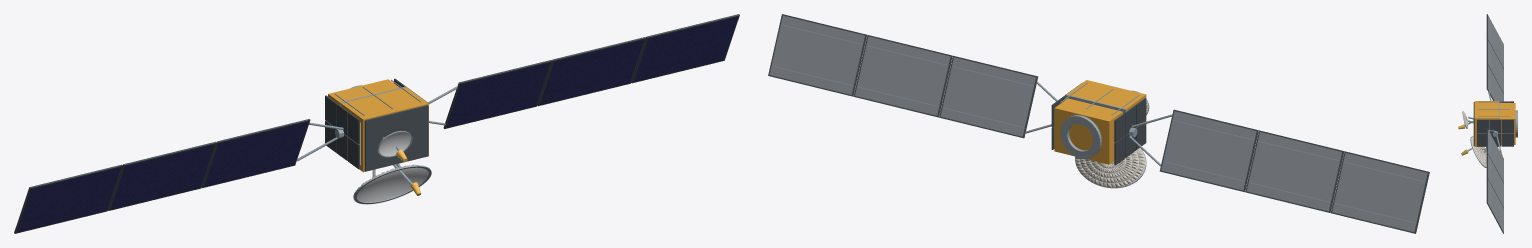
Rendered from spacenet-4.glb.
3 renders of one model, left to right at view 1: azimuth 30°, elevation 25°; view 2: azimuth 150°, elevation 25°; view 3: azimuth 270°, elevation 25°, orthographic. The views are drawn at different scales.
Parts seen in each view (by area): view 1: Solar cell panel (×6), Solar panel frame (×6), Earth-facing deck, Payload module, Reflector 1 face, Service module, Reflector 2 face, Reflector 1 edge; view 2: Rear array substrate (×6), Solar panel frame (×6), Service module, Reflector 1 insulated back, Payload module, Launch adapter ring; view 3: Rear array substrate (×6), Radiator bay (×6), Payload module, Solar panel frame (×6), Service module, Reflector 1 insulated back, Earth-facing deck, Launch adapter ring, Blanket closeout seam, Reflector 2 insulated back, Reflector 1 edge.
Part boxes in pixels (<box>): Solar cell panel (×6): <box>16,17,737,232</box>; Solar panel frame (×6): <box>14,14,739,233</box>; Earth-facing deck: <box>364,105,428,171</box>; Payload module: <box>341,87,428,172</box>; Reflector 1 face: <box>354,166,431,204</box>; Service module: <box>328,79,399,104</box>; Reflector 2 face: <box>379,132,410,156</box>; Reflector 1 edge: <box>353,165,431,204</box>; Rear array substrate (×6): <box>769,15,1427,231</box>; Solar panel frame (×6): <box>768,14,1429,233</box>; Service module: <box>1054,98,1122,164</box>; Reflector 1 insulated back: <box>1075,148,1145,187</box>; Payload module: <box>1067,80,1146,120</box>; Launch adapter ring: <box>1060,115,1101,159</box>; Rear array substrate (×6): <box>1488,15,1503,232</box>; Radiator bay (×6): <box>1477,119,1513,146</box>; Payload module: <box>1474,101,1498,146</box>; Solar panel frame (×6): <box>1486,14,1503,233</box>; Service module: <box>1499,103,1515,144</box>; Reflector 1 insulated back: <box>1471,136,1486,167</box>; Earth-facing deck: <box>1473,102,1474,145</box>; Launch adapter ring: <box>1515,110,1517,137</box>; Blanket closeout seam: <box>1478,101,1510,102</box>; Reflector 2 insulated back: <box>1463,111,1468,128</box>; Reflector 1 edge: <box>1470,137,1486,167</box>.
Size of the model in its own units: 14.08 by 1.95 by 1.89.
Materials: 9 (1 with a texture image).
